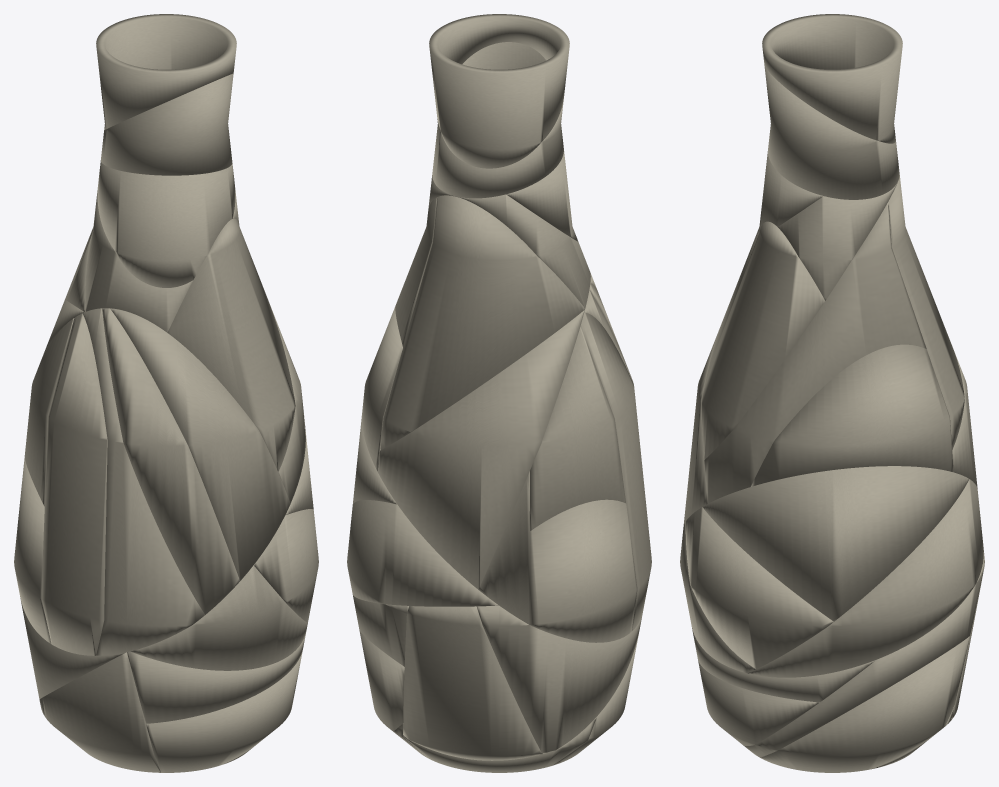
The model's file is fracture-solids.glb.
3 views of the same model, side by side, from view 1: azimuth 30°, elevation 25°; view 2: azimuth 150°, elevation 25°; view 3: azimuth 270°, elevation 25° (orthographic).
Parts seen in each view (by area): view 1: fragment-007, fragment-025, fragment-004, fragment-024, fragment-011, fragment-018, fragment-008, fragment-009, fragment-027, fragment-017, fragment-022, fragment-023 (+9 smaller); view 2: fragment-006, fragment-005, fragment-008, fragment-015, fragment-029, fragment-014, fragment-028, fragment-001, fragment-007, fragment-009, fragment-019, fragment-000 (+9 smaller); view 3: fragment-003, fragment-013, fragment-012, fragment-001, fragment-004, fragment-008, fragment-026, fragment-021, fragment-009, fragment-010, fragment-019, fragment-006 (+6 smaller).
Part boxes in pixels (left/top/right/bottom): fragment-007: left=41, top=313, right=107, bottom=655; fragment-025: left=110, top=308, right=290, bottom=580; fragment-004: left=167, top=218, right=295, bottom=471; fragment-024: left=102, top=308, right=239, bottom=614; fragment-011: left=82, top=308, right=204, bottom=655; fragment-018: left=97, top=160, right=235, bottom=287; fragment-008: left=96, top=14, right=236, bottom=130; fragment-009: left=101, top=73, right=233, bottom=175; fragment-027: left=130, top=565, right=307, bottom=670; fragment-017: left=43, top=652, right=160, bottom=772; fragment-022: left=146, top=651, right=302, bottom=772; fragment-023: left=127, top=633, right=305, bottom=723; fragment-006: left=380, top=195, right=585, bottom=450; fragment-005: left=377, top=310, right=584, bottom=589; fragment-008: left=429, top=14, right=569, bottom=168; fragment-015: left=403, top=606, right=542, bottom=760; fragment-029: left=529, top=499, right=637, bottom=642; fragment-014: left=476, top=605, right=642, bottom=753; fragment-028: left=529, top=326, right=625, bottom=531; fragment-001: left=347, top=500, right=498, bottom=606; fragment-007: left=580, top=312, right=651, bottom=630; fragment-009: left=432, top=42, right=563, bottom=198; fragment-019: left=428, top=175, right=590, bottom=307; fragment-000: left=478, top=471, right=529, bottom=624; fragment-003: left=702, top=466, right=969, bottom=621; fragment-013: left=704, top=201, right=926, bottom=503; fragment-012: left=751, top=344, right=953, bottom=486; fragment-001: left=747, top=479, right=983, bottom=677; fragment-004: left=701, top=221, right=824, bottom=459; fragment-008: left=762, top=14, right=902, bottom=143; fragment-026: left=685, top=507, right=833, bottom=668; fragment-021: left=760, top=636, right=969, bottom=772; fragment-009: left=764, top=64, right=899, bottom=199; fragment-010: left=743, top=562, right=983, bottom=757; fragment-019: left=778, top=176, right=899, bottom=300; fragment-006: left=888, top=175, right=964, bottom=449.
Bounding box in the file's own units: 0.104 × 0.26 × 0.104.
Materials: 1 (1 with a texture image).
